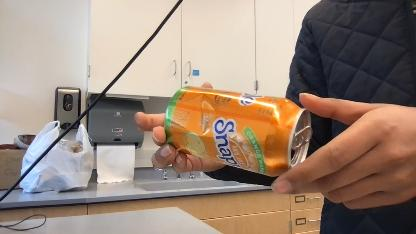Can: (164, 80, 312, 182)
